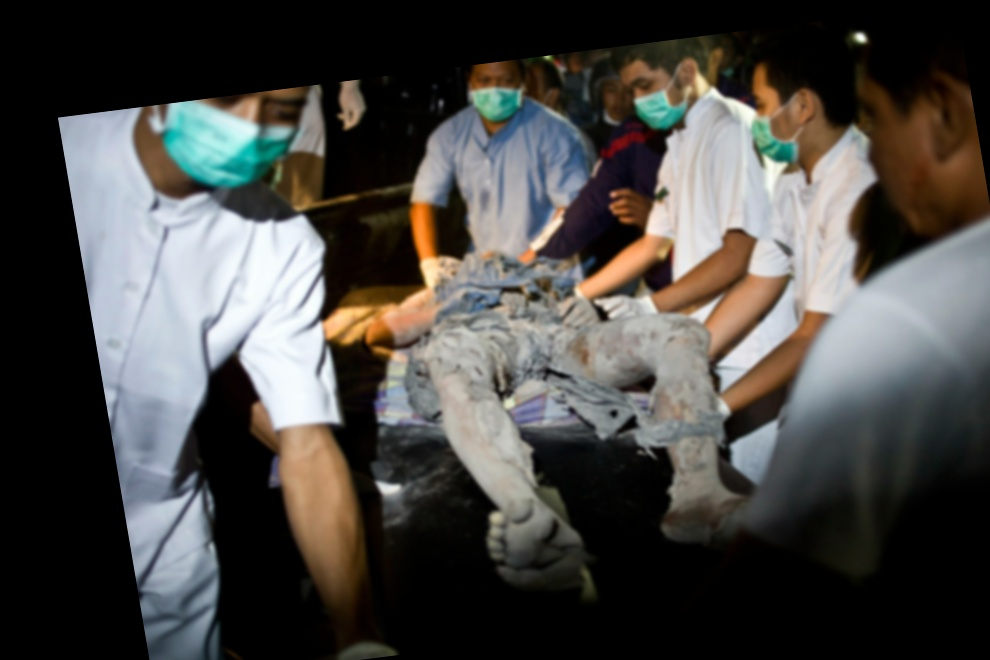BukanKorban: (644, 4, 990, 612), (58, 86, 404, 660), (533, 28, 823, 405), (658, 17, 914, 422), (387, 53, 606, 289), (582, 53, 646, 134)
Korban: (355, 223, 761, 588)
